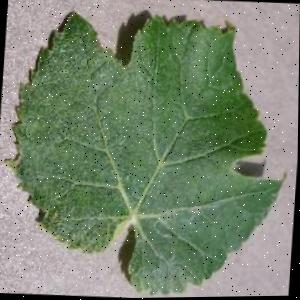Folha: (0, 0, 298, 300)
